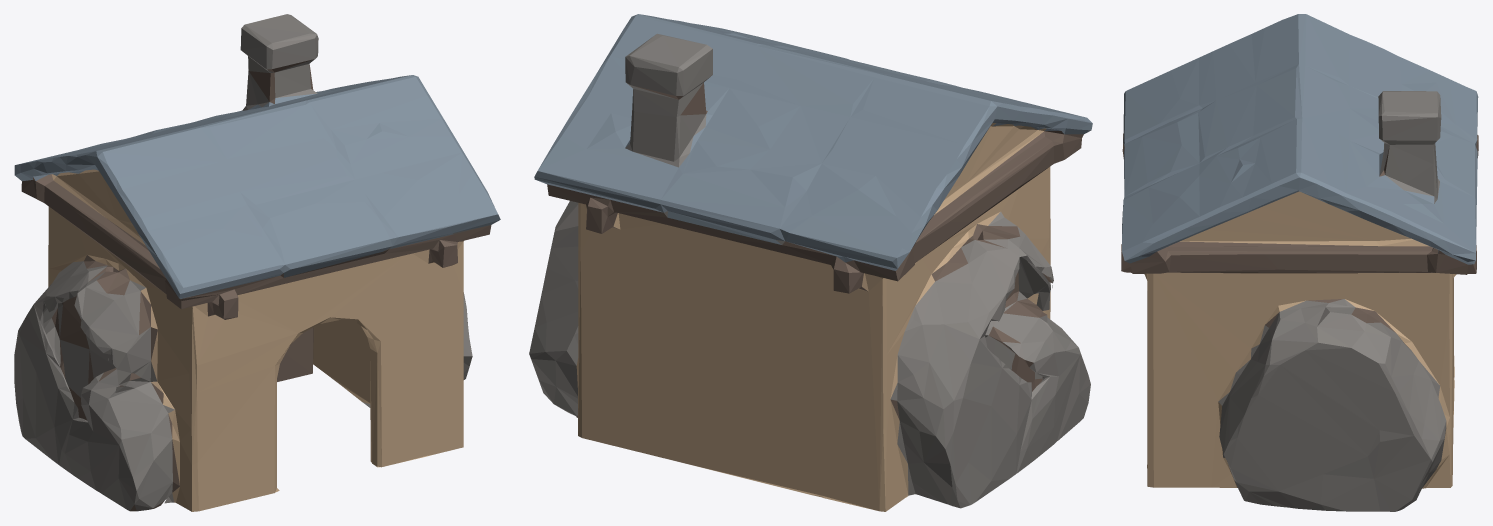
3 renders of one model, left to right at view 1: azimuth 30°, elevation 25°; view 2: azimuth 150°, elevation 25°; view 3: azimuth 270°, elevation 25°, orthographic. The views are drawn at different scales.
Visible parts, largest first — view 1: geometry_0; view 2: geometry_0; view 3: geometry_0.
Boxes of the visible parts, box(x1,y1,x2,y2) form: geometry_0: box(14, 14, 500, 511); geometry_0: box(529, 14, 1092, 511); geometry_0: box(1121, 14, 1478, 511).
Bounding box in the file's own units: 1 × 0.854 × 0.7795.
